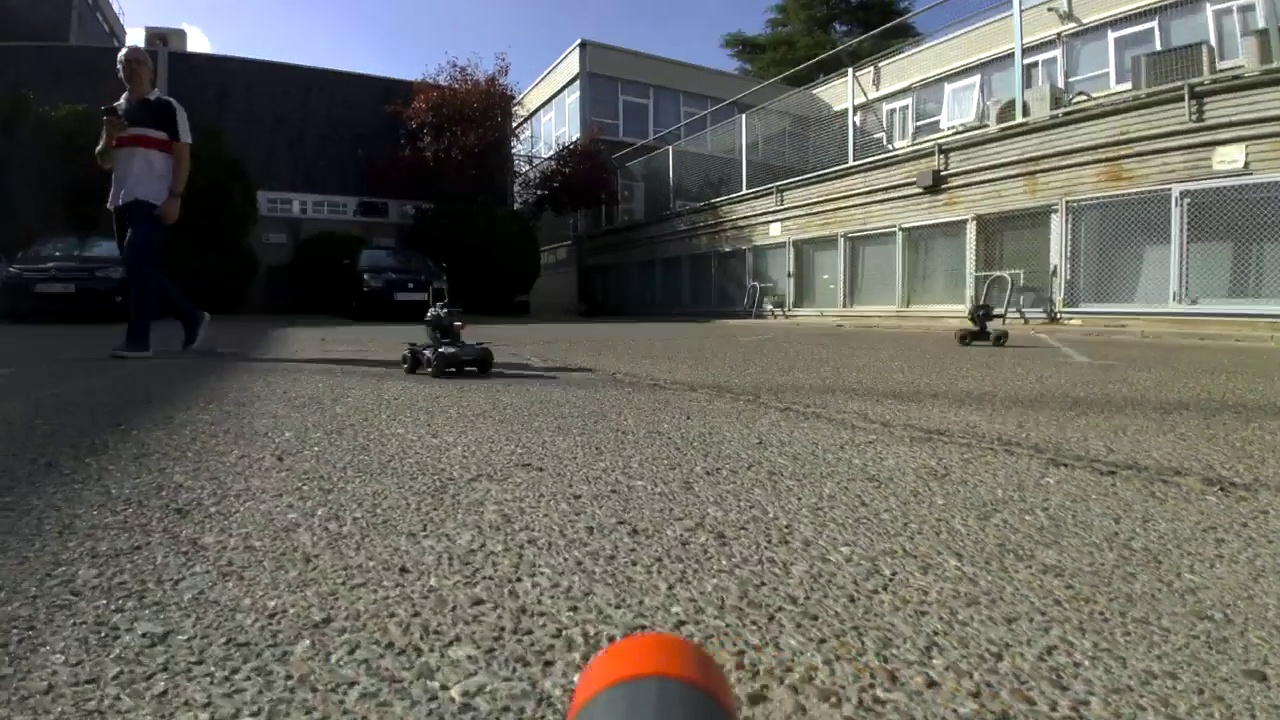robot: (402, 272, 495, 379), (955, 295, 1012, 350)
